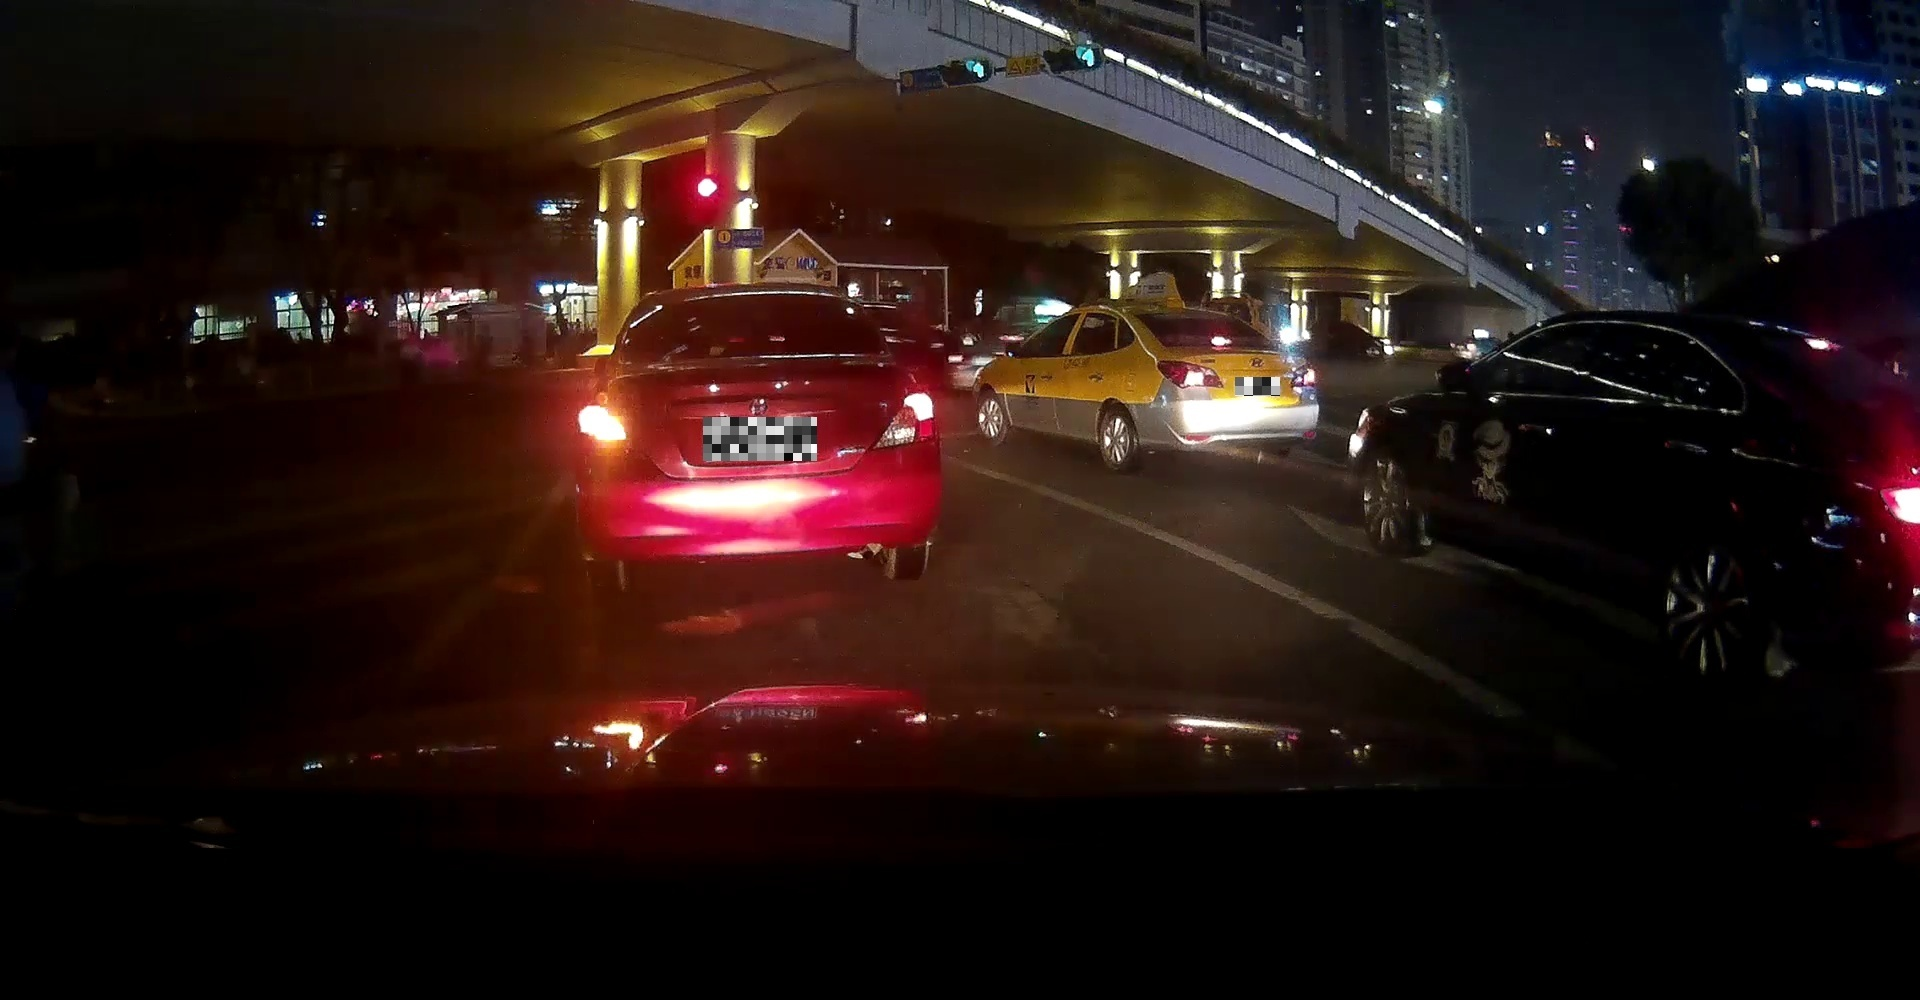L_light: (577, 404, 640, 452), (1157, 360, 1225, 390)
R_light: (869, 390, 936, 451), (1289, 360, 1321, 391)
T_light: (726, 288, 783, 298), (1209, 336, 1234, 348)
night-brake: (1114, 303, 1323, 471)
night-left: (573, 287, 943, 594)
plate_1: (703, 418, 817, 461)
plate_2: (1236, 377, 1280, 396)
